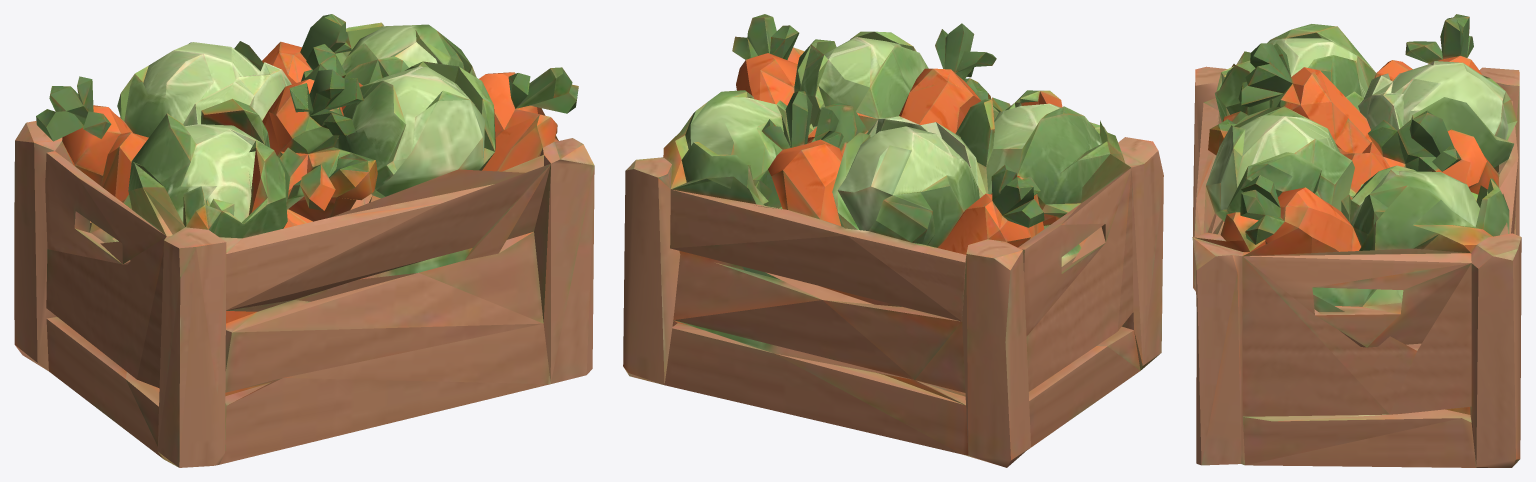
Rendered from farm-veg-crate.glb.
3 views of the same model, side by side, from view 1: azimuth 30°, elevation 25°; view 2: azimuth 150°, elevation 25°; view 3: azimuth 270°, elevation 25° (orthographic). The views are drawn at different scales.
Parts seen in each view (by area): view 1: farm-veg-crate-fit; view 2: farm-veg-crate-fit; view 3: farm-veg-crate-fit.
Part boxes in pixels (x1,y1,x2,y2): farm-veg-crate-fit: [14, 14, 594, 467]; farm-veg-crate-fit: [623, 14, 1163, 467]; farm-veg-crate-fit: [1192, 14, 1521, 467].
Size of the model in its own units: 0.8029 by 0.6 by 0.5575.
1 material, 1 textured.
